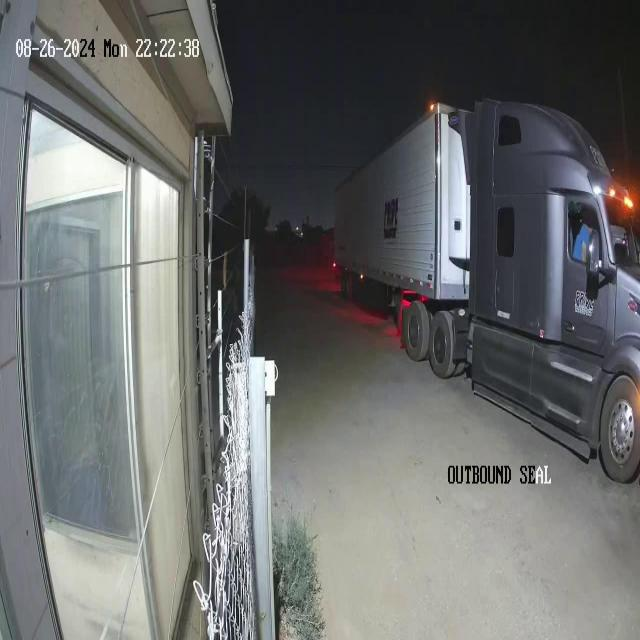TRUCK_CONTAINER: (332, 96, 639, 483)
